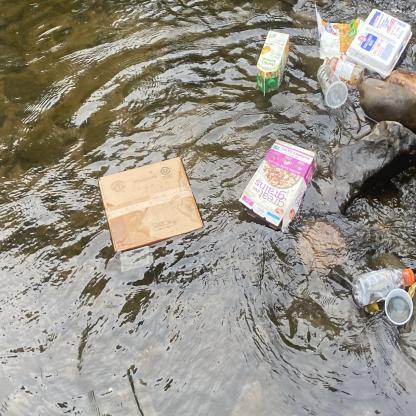trash: (96, 154, 210, 283), (235, 132, 320, 238), (339, 2, 416, 85), (311, 0, 372, 70), (247, 27, 294, 98), (350, 262, 416, 308), (311, 59, 351, 112), (381, 288, 416, 330)
